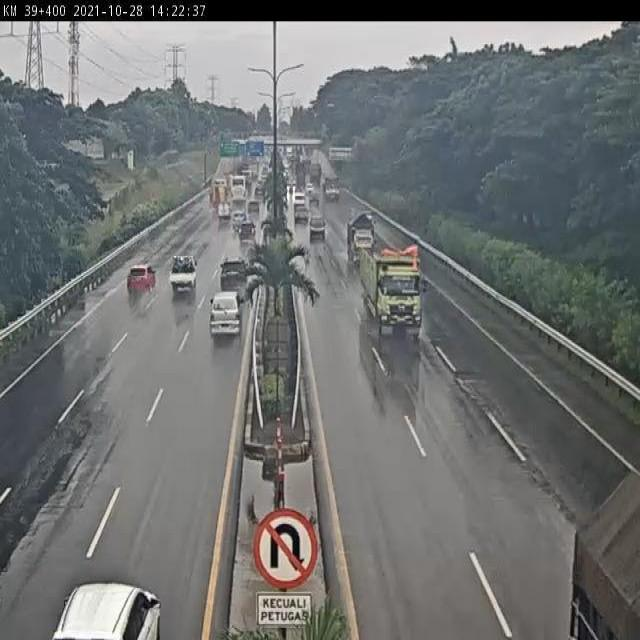car: (169, 254, 200, 294)
truck-l-: (356, 240, 424, 333)
truck-s-: (347, 211, 376, 269)
